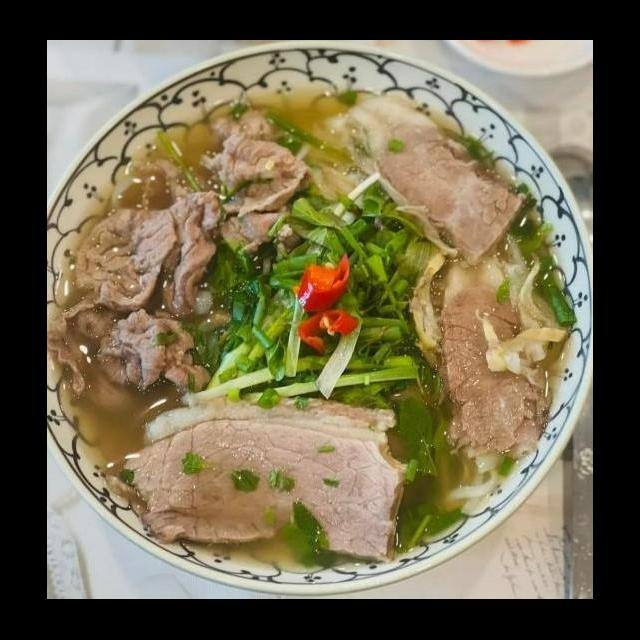thit bo: (109, 392, 415, 568), (336, 82, 534, 274), (420, 244, 553, 466), (195, 110, 316, 264), (67, 198, 182, 318), (92, 300, 213, 400), (145, 184, 228, 320)
